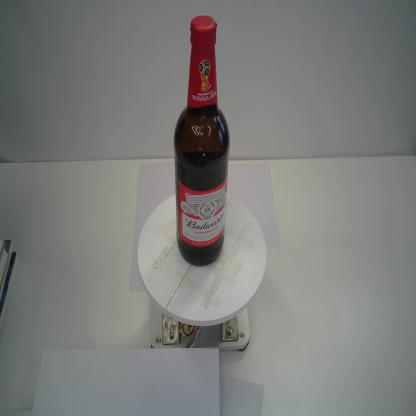Alcohol: (173, 14, 231, 269)
